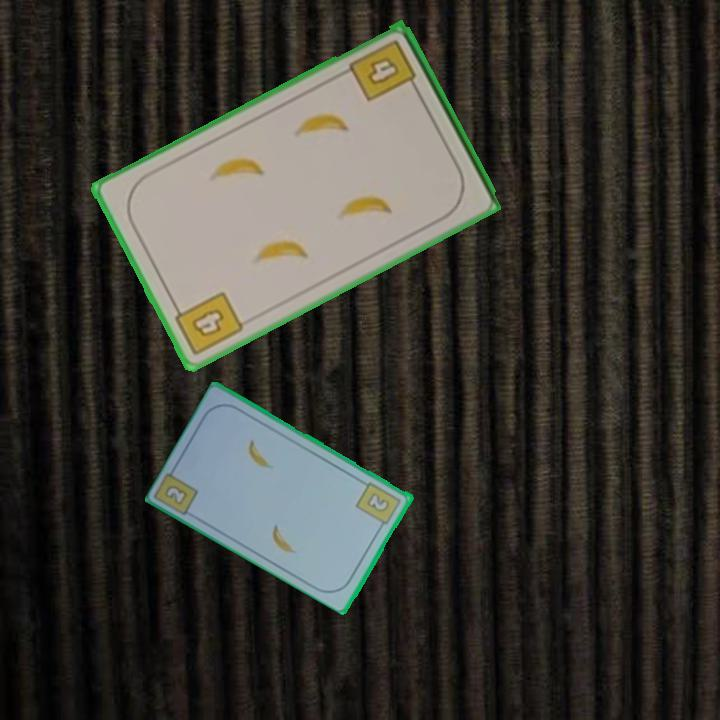2b: (353, 478, 404, 532), (161, 481, 191, 508)
4b: (168, 288, 247, 359), (345, 37, 421, 105)
